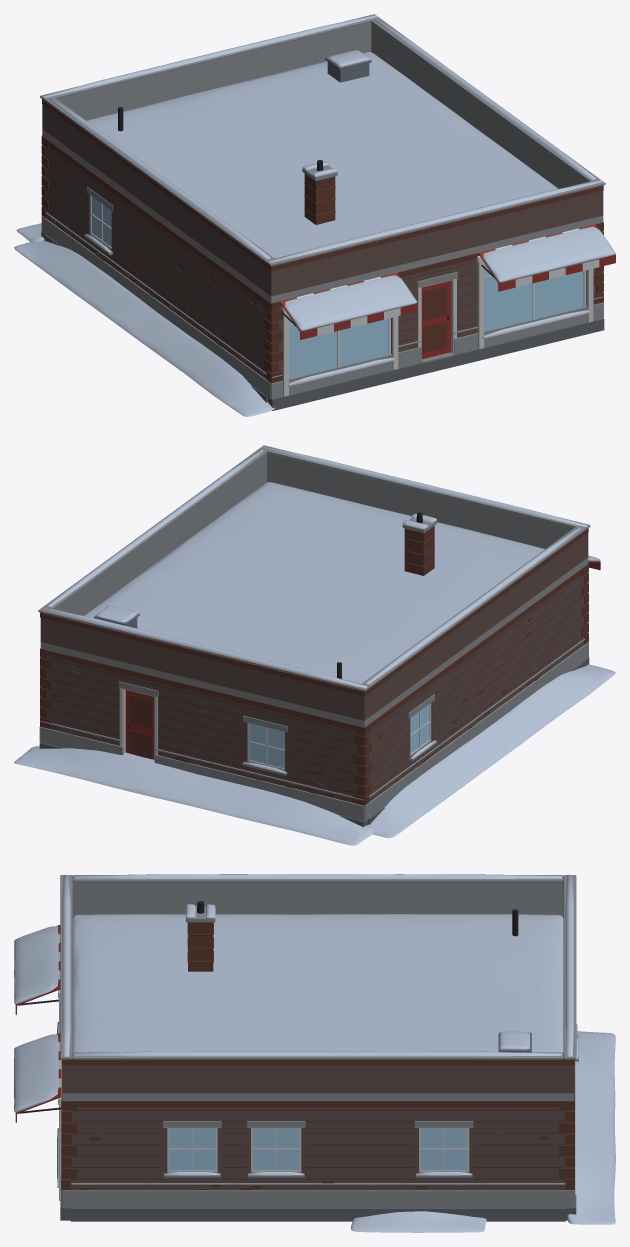
File: shop_general.glb
3 views of the same model, one above another, from view 1: azimuth 30°, elevation 25°; view 2: azimuth 150°, elevation 25°; view 3: azimuth 270°, elevation 25° (orthographic). The views are drawn at different scales.
Parts seen in each view (by area): view 1: Roof, Walls0_S, Walls0_W, Floor0, Window_1, Window_0, Door_0, Walls0_W_Stub, Walls0_S_Stub, Window_6, Walls0_N; view 2: Roof, Walls0_N, Floor0, Walls0_W, Walls0_N_Stub, Door_1, Window_2, Walls0_W_Stub, Walls0_S, Window_6; view 3: Roof, Walls0_E, Floor0, Walls0_S, Walls0_E_Stub, Window_3, Window_4, Window_5, Walls0_N.
Boxes of the visible parts, x1=… form: Roof: x1=40, y1=14, x2=605, y2=303; Walls0_S: x1=264, y1=222, x2=615, y2=399; Walls0_W: x1=45, y1=138, x2=267, y2=395; Floor0: x1=14, y1=223, x2=604, y2=416; Window_1: x1=484, y1=263, x2=583, y2=331; Window_0: x1=289, y1=316, x2=388, y2=378; Door_0: x1=421, y1=280, x2=450, y2=359; Walls0_W_Stub: x1=45, y1=212, x2=266, y2=378; Walls0_S_Stub: x1=267, y1=296, x2=603, y2=398; Window_6: x1=92, y1=196, x2=111, y2=246; Walls0_N: x1=41, y1=135, x2=48, y2=233; Roof: x1=38, y1=445, x2=590, y2=727; Walls0_N: x1=39, y1=648, x2=371, y2=821; Floor0: x1=14, y1=657, x2=615, y2=845; Walls0_W: x1=368, y1=566, x2=584, y2=817; Walls0_N_Stub: x1=40, y1=721, x2=369, y2=820; Door_1: x1=125, y1=690, x2=154, y2=759; Window_2: x1=249, y1=724, x2=284, y2=768; Walls0_W_Stub: x1=369, y1=638, x2=585, y2=801; Walls0_S: x1=581, y1=555, x2=600, y2=660; Window_6: x1=410, y1=704, x2=429, y2=753; Roof: x1=60, y1=874, x2=576, y2=1100; Walls0_E: x1=70, y1=1101, x2=565, y2=1208; Floor0: x1=57, y1=1024, x2=615, y2=1232; Walls0_S: x1=14, y1=925, x2=77, y2=1208; Walls0_E_Stub: x1=70, y1=1183, x2=565, y2=1190; Window_3: x1=169, y1=1128, x2=215, y2=1170; Window_4: x1=253, y1=1128, x2=299, y2=1170; Window_5: x1=421, y1=1128, x2=466, y2=1170; Walls0_N: x1=559, y1=1035, x2=578, y2=1208.
Size of what is drawn, in the model's own units: 11.87 by 5.2 by 14.35.
